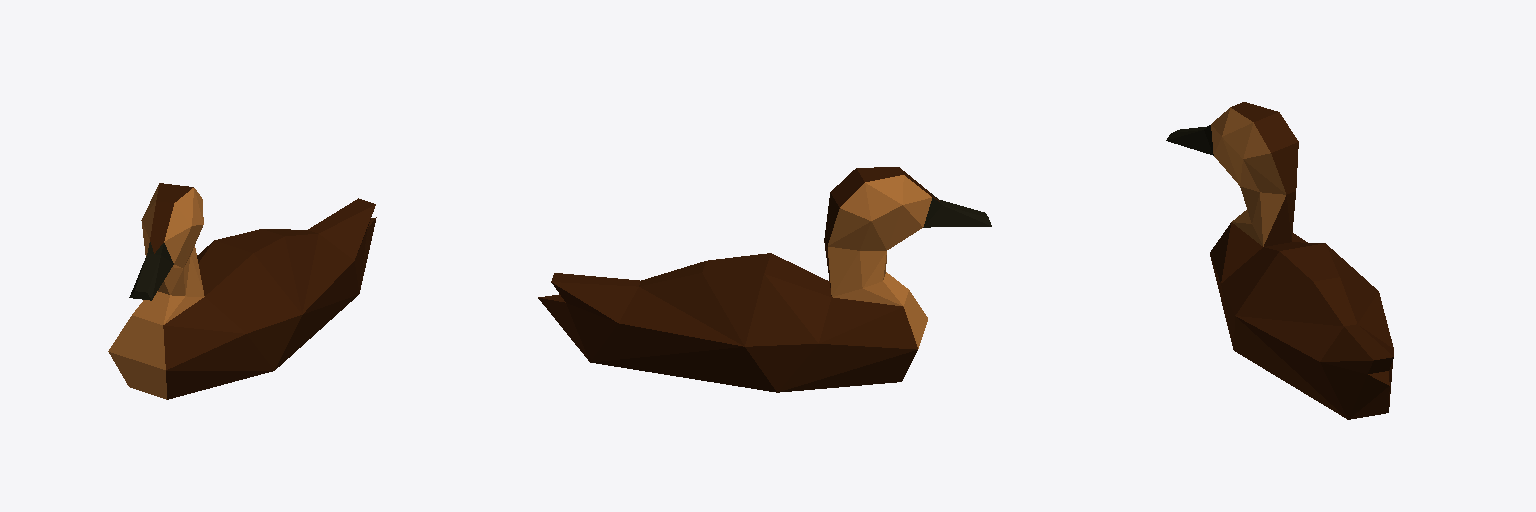
File: femaleduck.obj
3 views of the same model, side by side, from view 1: azimuth 30°, elevation 25°; view 2: azimuth 150°, elevation 25°; view 3: azimuth 270°, elevation 25° (orthographic).
Parts seen in each view (by area): view 1: Plane; view 2: Plane; view 3: Plane.
Part boxes in pixels (x1,y1,x2,y2): Plane: (108, 183, 376, 399); Plane: (538, 167, 991, 392); Plane: (1166, 102, 1393, 419).
Size of the model in its own units: 7.46 by 3.93 by 4.21.